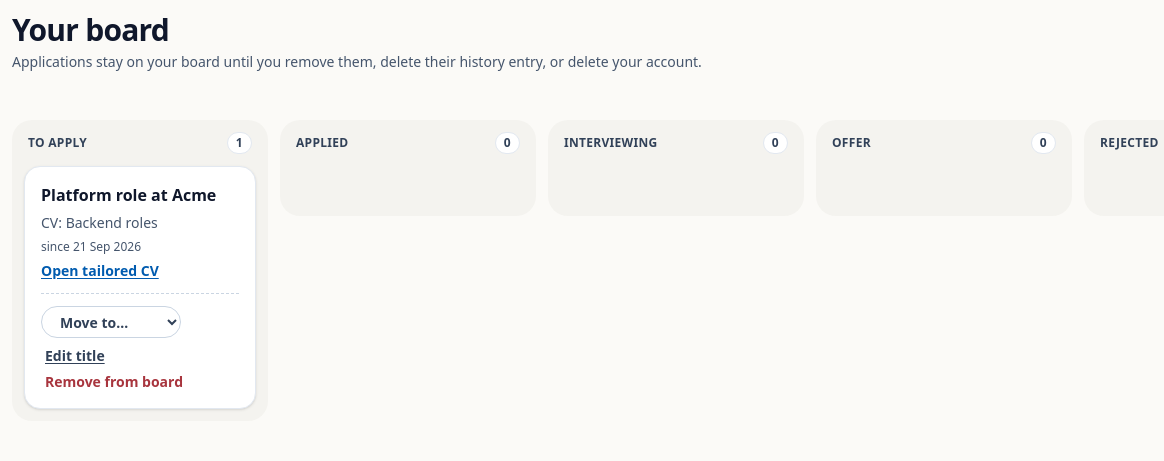
Test: A refused move rolls back with its own copy (AC-34) › 503 service_unavailable: the card goes back from the snapshot (the refetch hangs) and the reason is an alert
The image size is (1164, 461).
expect the text "Platform role at Acme" is shown: met, box [41,183,239,207]
Select "Interviewing" in the dropdown named "move to": (111,322) [41,306,181,338]
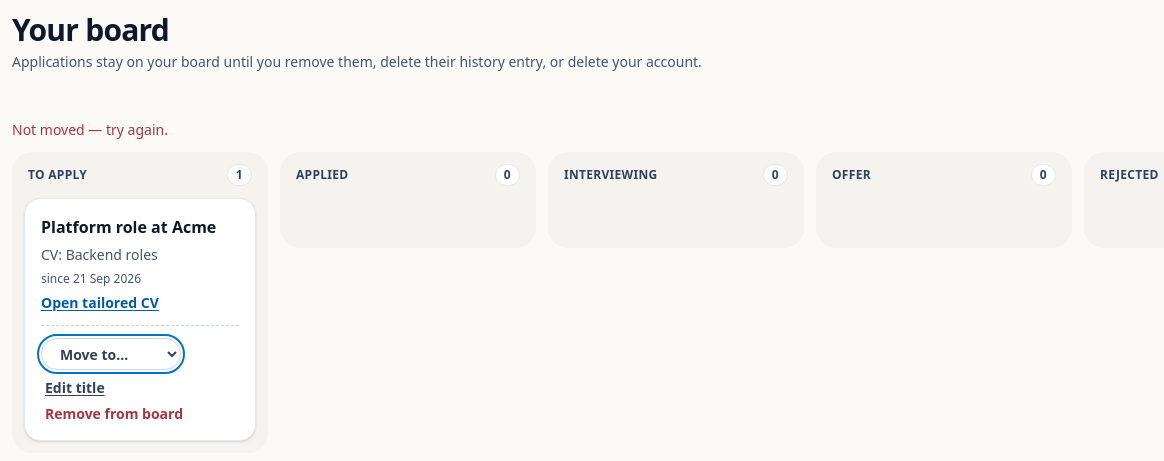
expect the message reads "Not moved — try again.": met, box [12,120,168,139]
